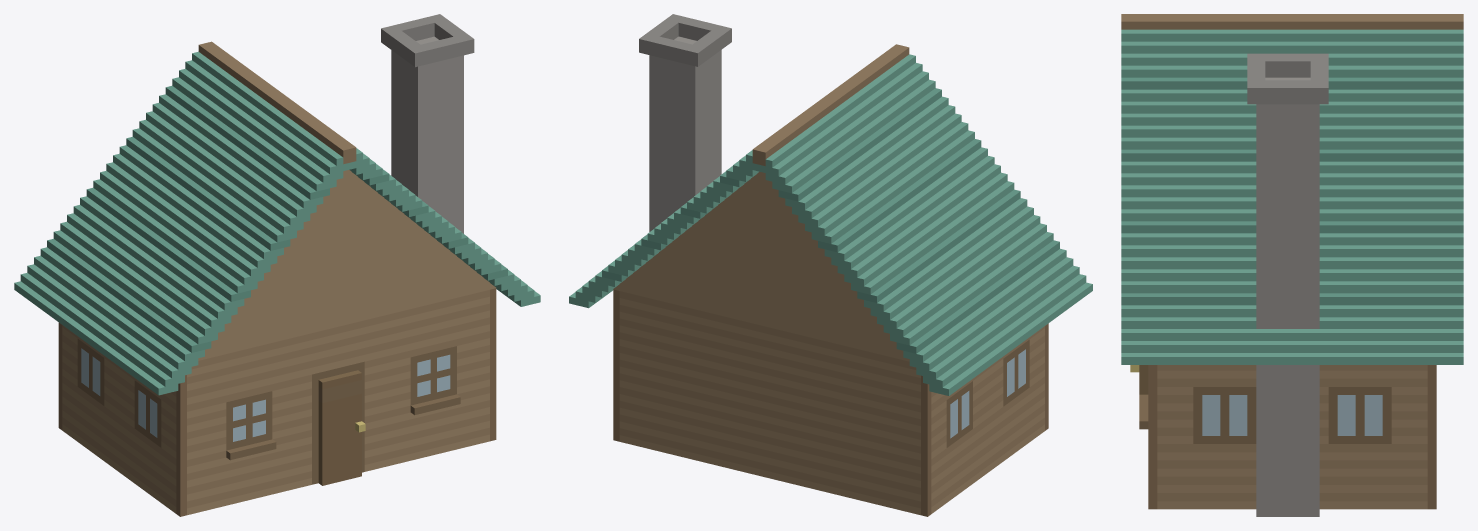
File: maison_armurerie.glb
The picture shows the model from 3 angles, left to right: view 1: azimuth 30°, elevation 25°; view 2: azimuth 150°, elevation 25°; view 3: azimuth 270°, elevation 25°; orthographic projection. The views are drawn at different scales.
Visible parts, largest first — view 1: geometry_0; view 2: geometry_0; view 3: geometry_0.
Boxes of the visible parts, <box> form: geometry_0: <box>14,14,540,516</box>; geometry_0: <box>569,14,1092,516</box>; geometry_0: <box>1121,14,1463,516</box>.
Size of the model in its own units: 7.25 by 6.62 by 4.75.
